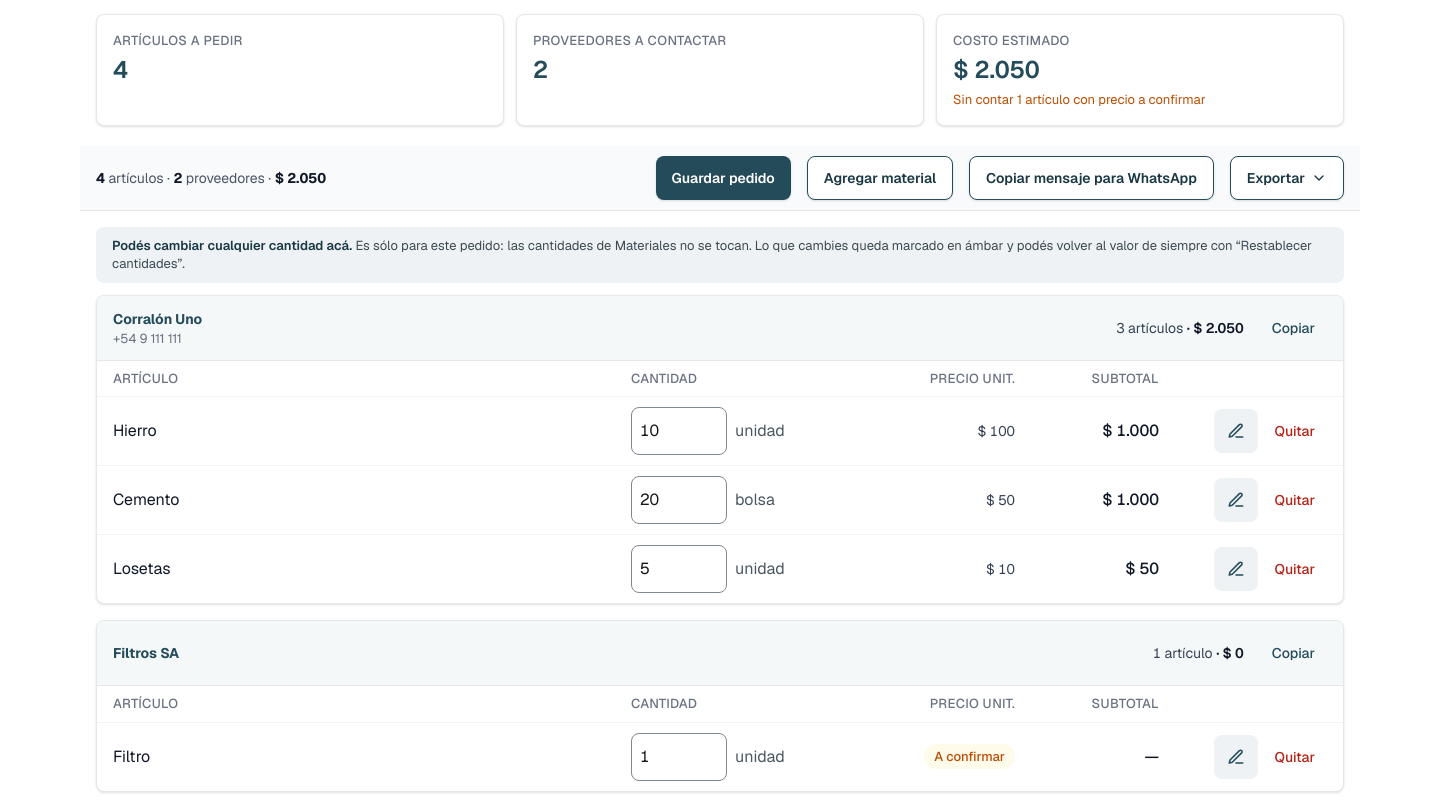
Test: Armar pedido › cada línea tiene su lápiz para editar el material
The width and height of the screenshot is (1440, 810).
(page scrolled)
Expected: the element named "Resumen del pedido" is shown, [96, 14, 1344, 126]
Step 1. Click the button named "Editar Hierro" → (1236, 431), box [1214, 409, 1258, 453]
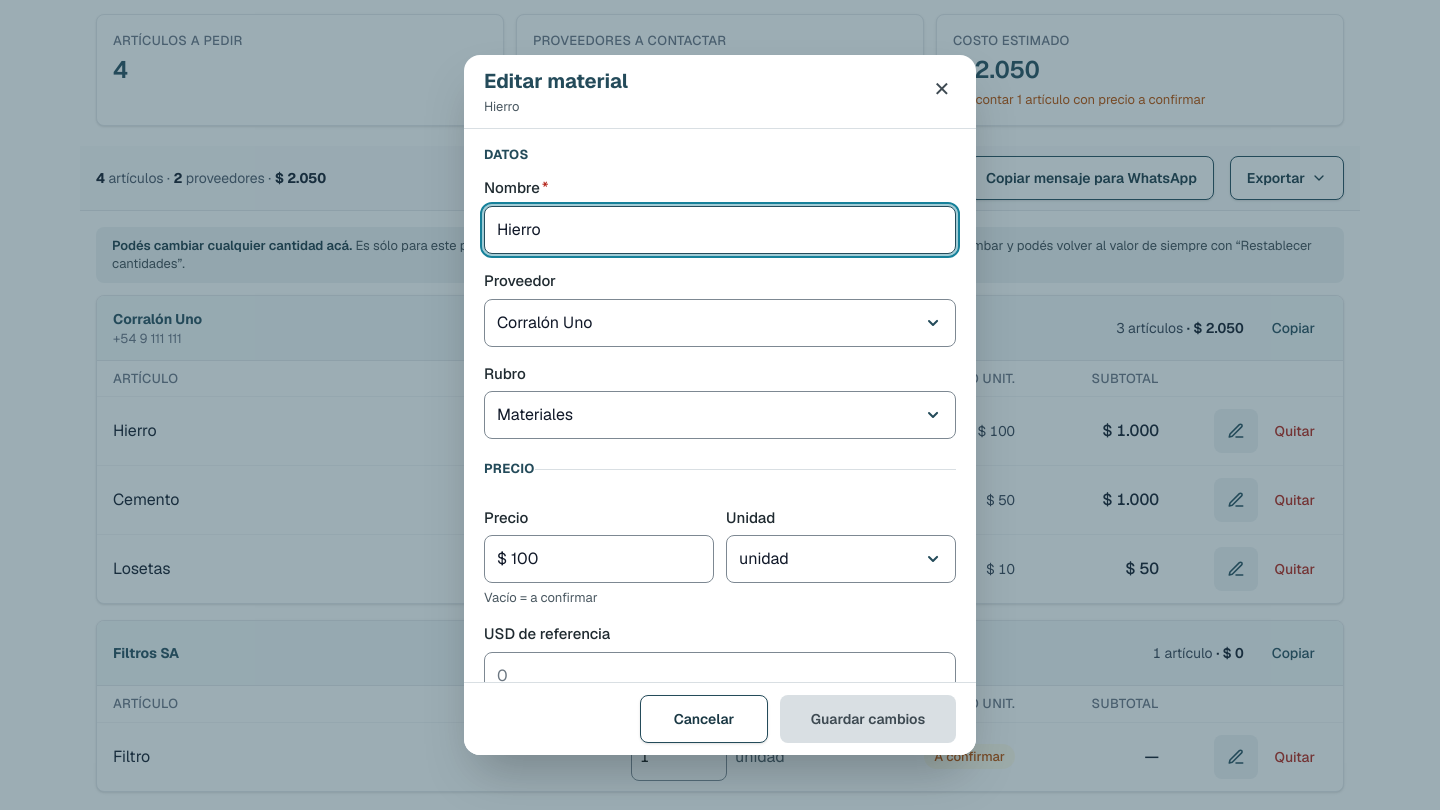
Result: the dialog "Editar material" is shown at [464, 55, 976, 755]
